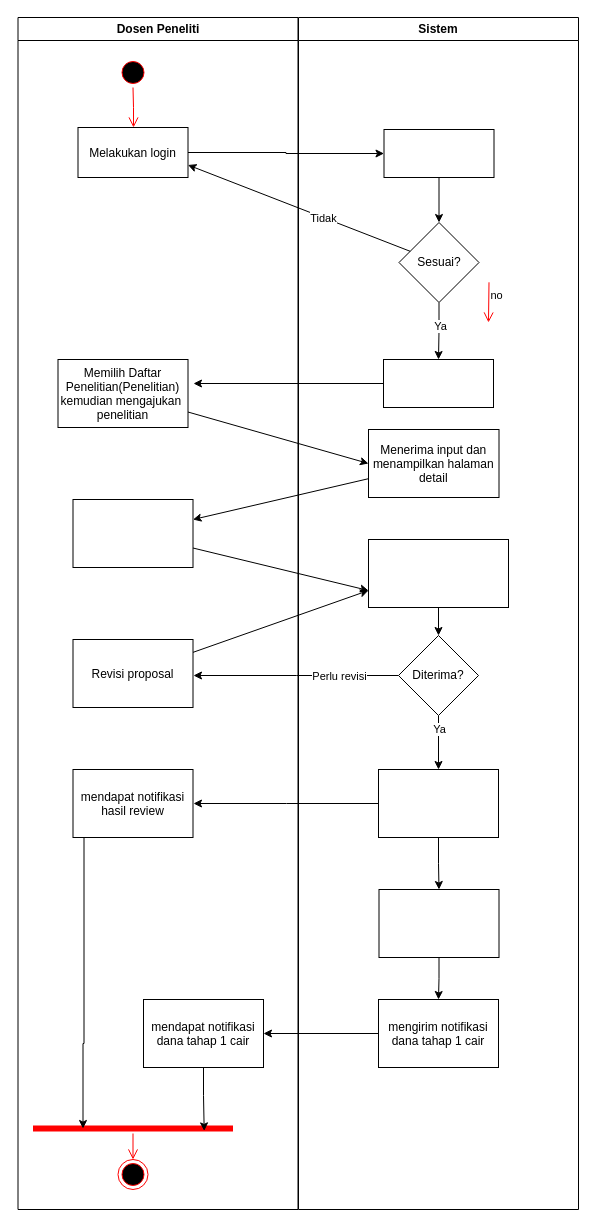
Some shapes in this 596 by 1227 pixel diagram are drawn without their labels. The shapes that lost their labels are listed below. From the top down, each one's centre as x and y in pixels, then its label:
At (438,153): "Validasi".
At (438,383): "Menampilkan halaman utama".
At (132,533): "Melengkapi detail dan mengajukan proposal".
At (438,573): "menunggu hasil review dari admin dan dosen reviewer".
At (438,803): "mengirim notifikasi hasil review".
At (438,923): "menunggu pencairan dana tahap 1 oleh admin LPPM".
